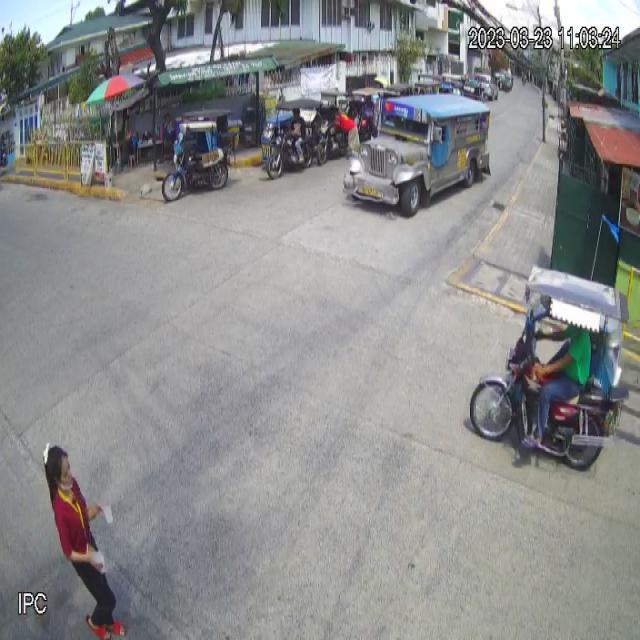Jeep: (342, 94, 492, 218)
Tricycle: (470, 265, 630, 471)
